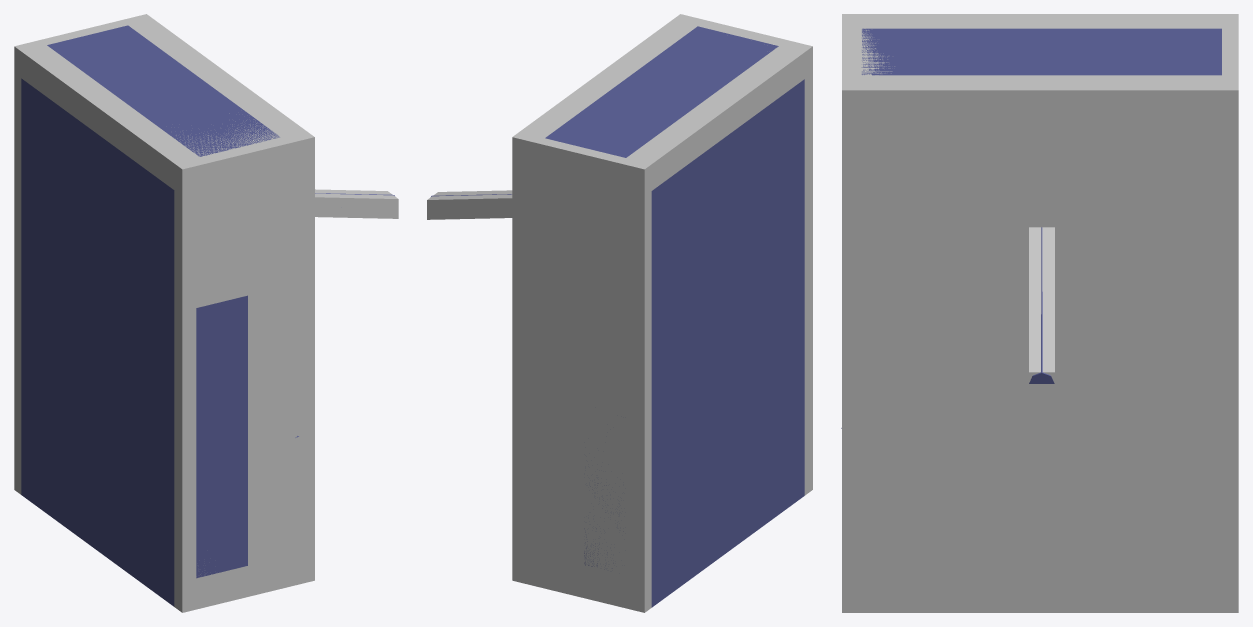
The model's file is SM_Ticket_Gate_01.fbx.
3 views of the same model, side by side, from view 1: azimuth 30°, elevation 25°; view 2: azimuth 150°, elevation 25°; view 3: azimuth 270°, elevation 25° (orthographic). The views are drawn at different scales.
Parts seen in each view (by area): view 1: SM_Ticket_Gate_01, SM_Ticket_Gate_01_ConvexHulls; view 2: SM_Ticket_Gate_01_ConvexHulls, SM_Ticket_Gate_01; view 3: SM_Ticket_Gate_01_ConvexHulls, SM_Ticket_Gate_01.
Part boxes in pixels (x1,y1,x2,y2): SM_Ticket_Gate_01: [21, 25, 394, 606]; SM_Ticket_Gate_01_ConvexHulls: [14, 14, 398, 612]; SM_Ticket_Gate_01_ConvexHulls: [427, 14, 812, 612]; SM_Ticket_Gate_01: [430, 26, 804, 607]; SM_Ticket_Gate_01_ConvexHulls: [842, 14, 1238, 612]; SM_Ticket_Gate_01: [841, 28, 1221, 428].
Bounding box in the file's own units: 112 × 110 × 160.
